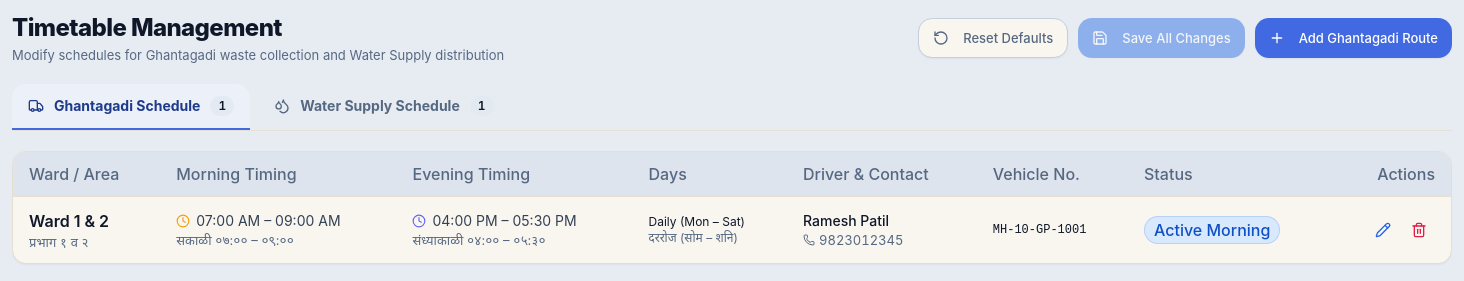
TimetableAdmin › switches to water supply tab and shows water schedule
Click the button "Water Supply Schedule 1": {"x": 384, "y": 107} [258, 84, 510, 130]
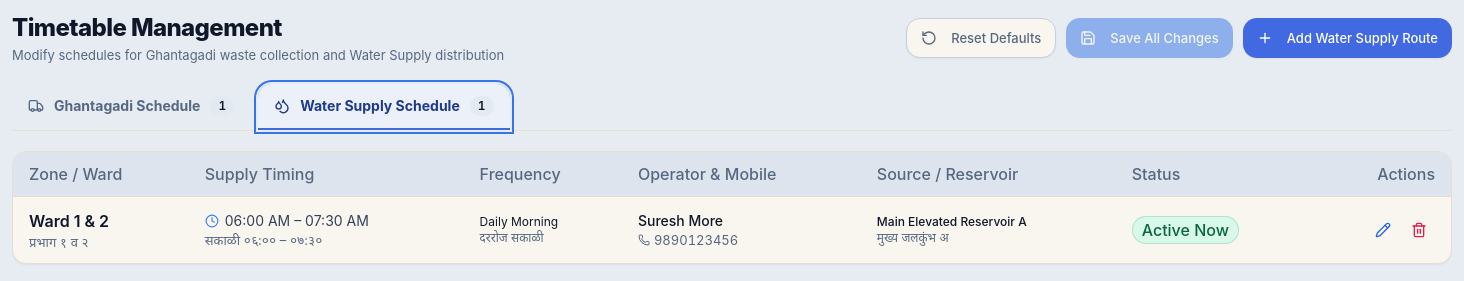
Expected: the text "Suresh More" is shown, [638, 212, 723, 229]
Expected: the text "Main Elevated Reservoir A" is shown, [877, 214, 1027, 229]
